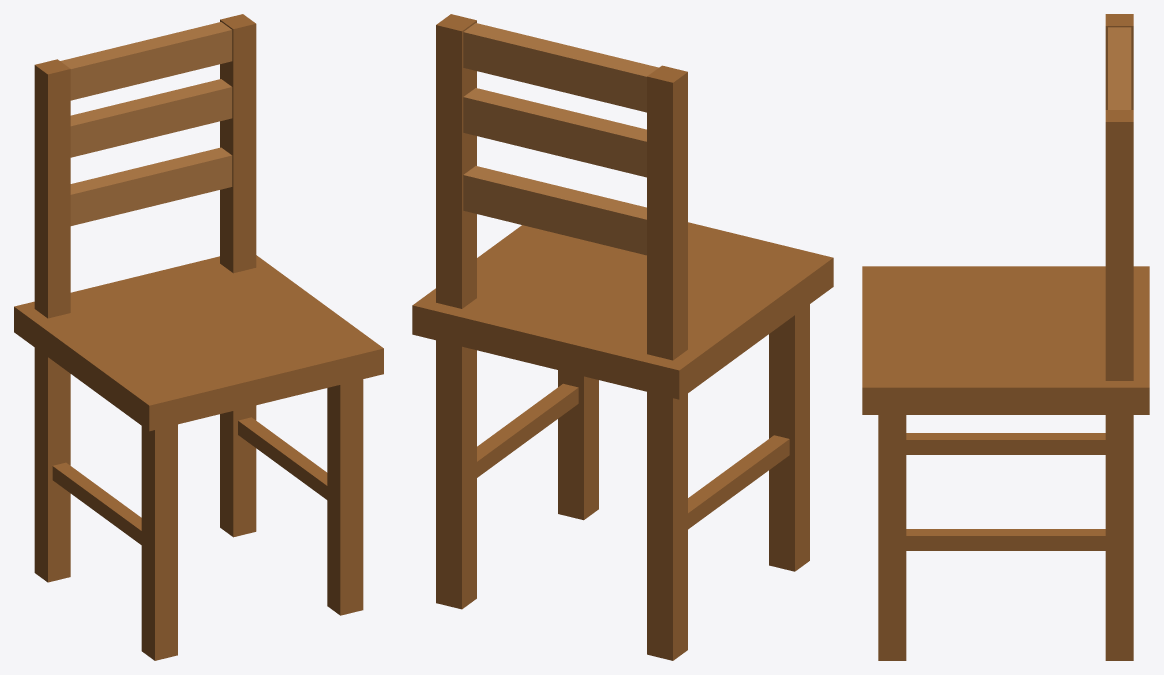
Rendered from wood-chair.glb.
3 views of the same model, side by side, from view 1: azimuth 30°, elevation 25°; view 2: azimuth 150°, elevation 25°; view 3: azimuth 270°, elevation 25° (orthographic). The views are drawn at different scales.
Parts seen in each view (by area): view 1: solid-wood-desk-chair; view 2: solid-wood-desk-chair; view 3: solid-wood-desk-chair.
Part boxes in pixels (left/top/right/bottom): solid-wood-desk-chair: left=14, top=14, right=383, bottom=660; solid-wood-desk-chair: left=412, top=14, right=833, bottom=660; solid-wood-desk-chair: left=862, top=14, right=1149, bottom=660.
Bounding box in the file's own units: 0.43 × 0.89 × 0.43.
